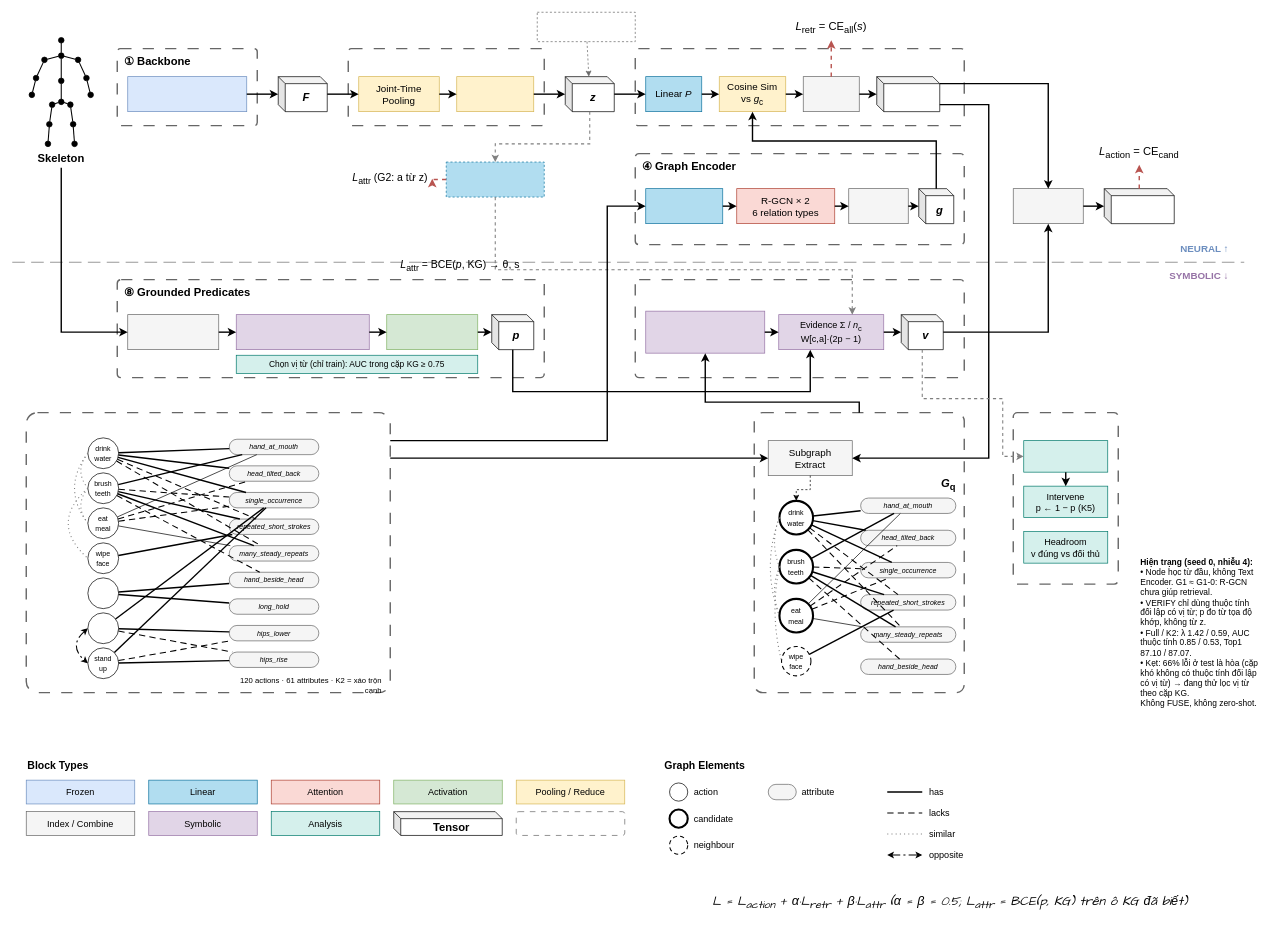
The diagram is 1274 pixels wide and 929 high, and some of its shapes have lost their labels. Each missing label, with the box of its shape:
+ residual: (848, 188, 908, 224)
Action logits: (1104, 188, 1174, 224)
Actor Max: (456, 76, 534, 112)
Attr head σ( W a z ) (G2, diagnostic): (446, 161, 544, 197)
Body-frame Normalize: (127, 314, 219, 350)
Evidence Trace per attribute: (1023, 440, 1108, 472)
Geometric φ( X ) dist · angle · velocity · order: (236, 314, 369, 350)
Hyper-GCN l1 – l9 (frozen): (127, 76, 247, 112)
Logit Sum s c + λ v c: (1013, 188, 1083, 224)
Nhiễu (chỉ train) z + 4·σ·ε: (537, 12, 635, 42)
Node Embed x (learned): (645, 188, 723, 224)
Opposed-Attr Mask has ∧ lacks in 𝒞 q (chỉ thuộc tính có vị từ): (645, 310, 765, 353)
phone call: (87, 577, 119, 609)
sit down: (87, 612, 119, 644)
Soft Threshold σ((u − θ) / s) 2 tham số / vị từ: (386, 314, 478, 350)
Stage: (516, 811, 625, 835)
Top-k: (803, 76, 859, 112)
② Pooling: (347, 48, 545, 126)
③ Graph Retriever: (634, 48, 965, 126)
⑤ Action Knowledge Graph 𝒢: (25, 412, 391, 693)
⑥ Subgraph Extraction: (753, 412, 965, 693)
⑦ Contrastive Verifier: (634, 279, 965, 378)
⑨ Explain: (1012, 412, 1119, 584)
𝒞 q , s: (876, 76, 940, 112)
